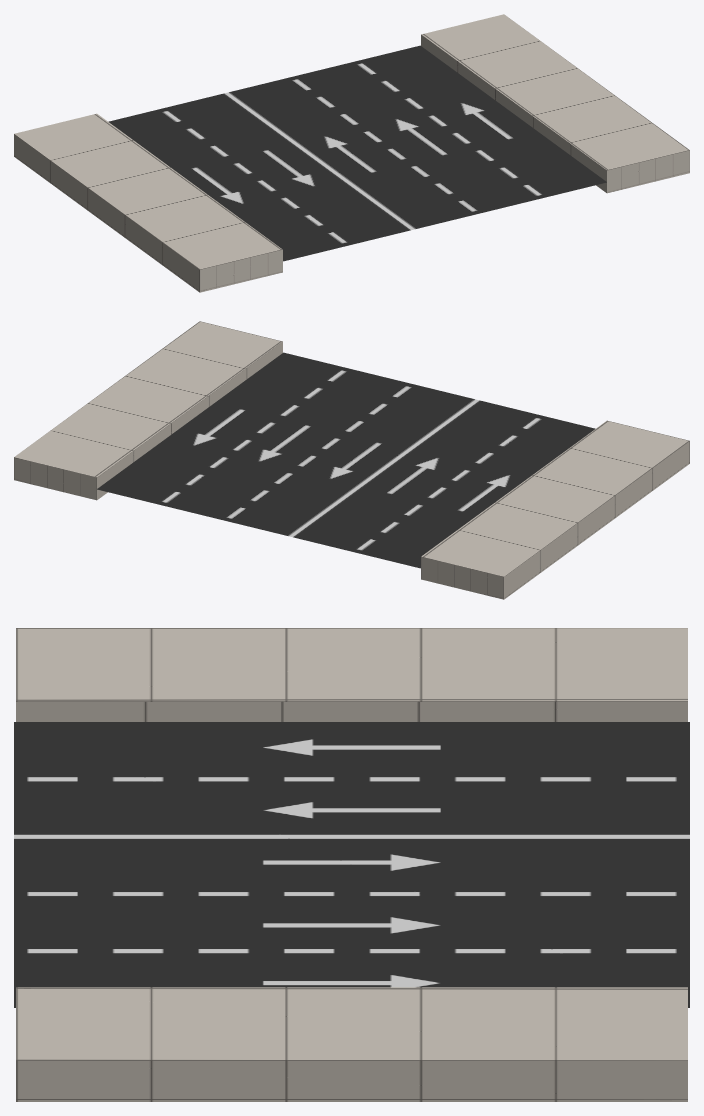
Rendered from Tiles2.fbx.
3 views of the same model, one above another, from view 1: azimuth 30°, elevation 25°; view 2: azimuth 150°, elevation 25°; view 3: azimuth 270°, elevation 25° (orthographic). The views are drawn at different scales.
Parts seen in each view (by area): view 1: Plane.001, Cube.022; view 2: Plane.001, Cube.022; view 3: Plane.001, Cube.022.
Part boxes in pixels (x1=…): Plane.001: x1=108, y1=45, x2=606, y2=261; Cube.022: x1=14, y1=14, x2=689, y2=292; Plane.001: x1=97, y1=352, x2=595, y2=568; Cube.022: x1=14, y1=321, x2=689, y2=599; Plane.001: x1=14, y1=722, x2=689, y2=1007; Cube.022: x1=16, y1=628, x2=687, y2=1101.
Bounding box in the file's own units: 303 × 13.5 × 200.
Materials: 2 (2 with a texture image).
